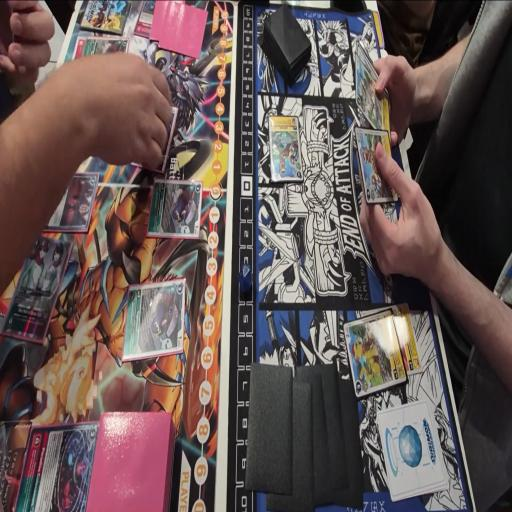card: (12, 419, 102, 511), (2, 239, 72, 343), (342, 305, 408, 393), (124, 279, 187, 362), (349, 57, 396, 140), (146, 175, 204, 241), (354, 128, 398, 214), (43, 172, 101, 233), (266, 114, 304, 181), (394, 300, 424, 376), (84, 35, 132, 65), (66, 35, 86, 68)
